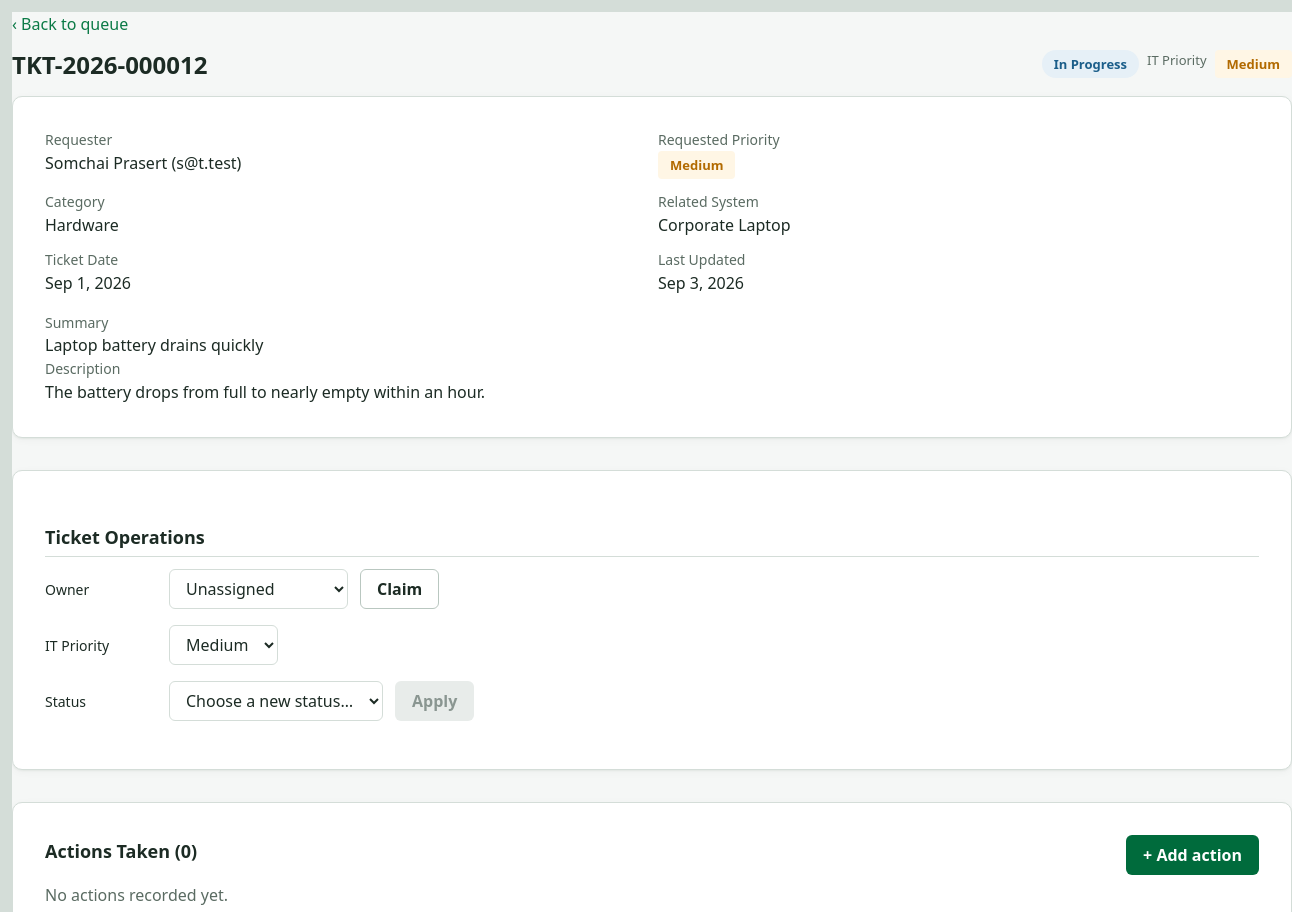
IT Staff Ticket Detail › UI-21: ownership controls › offers Claim when unassigned, and claiming sends the caller's own id
Step 1. Click the button "Claim" → coordinates (400, 589), box [360,569,439,609]
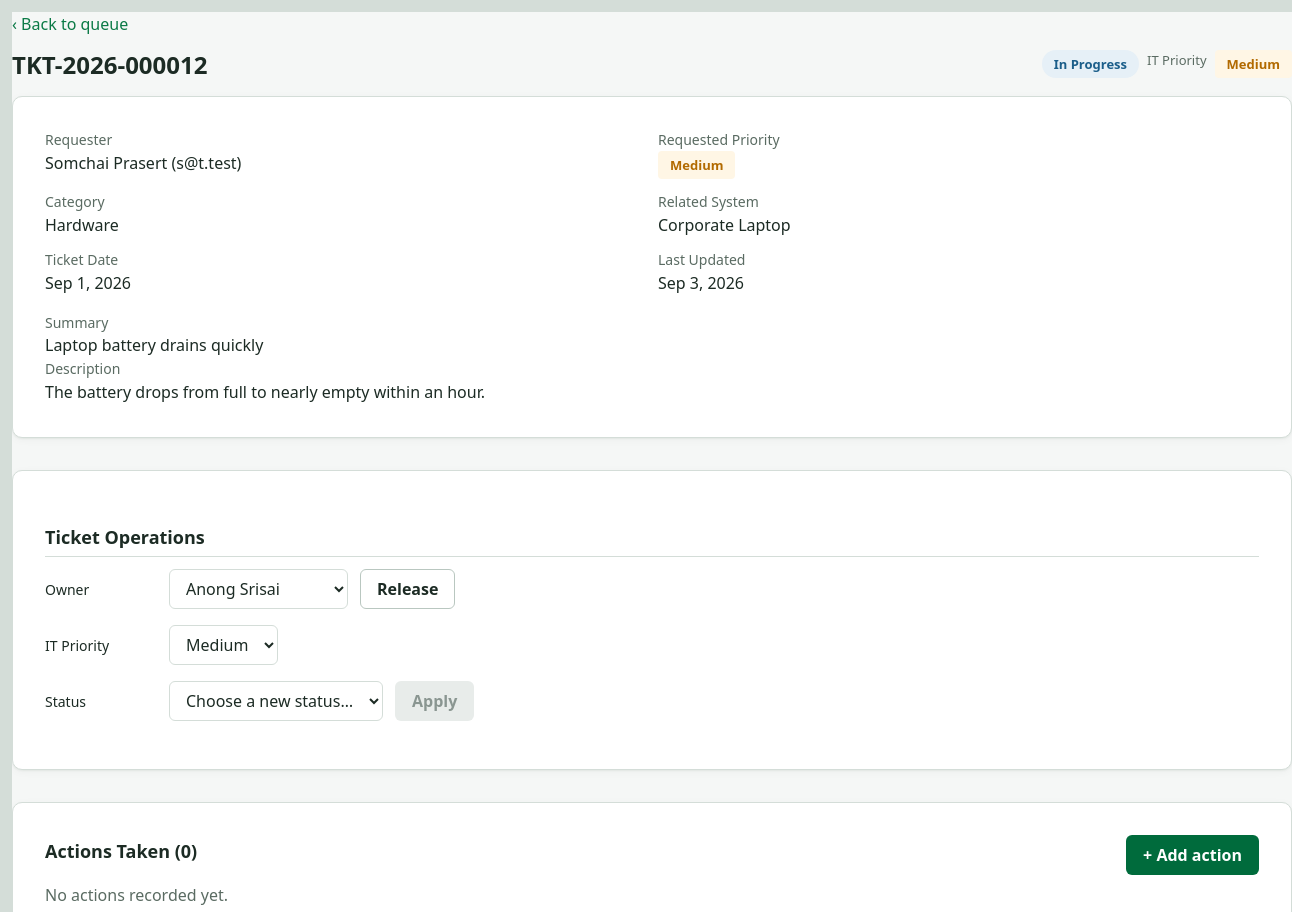
Now the button "Release" is shown, box [360,569,455,609]
Now the button "Claim" is gone
